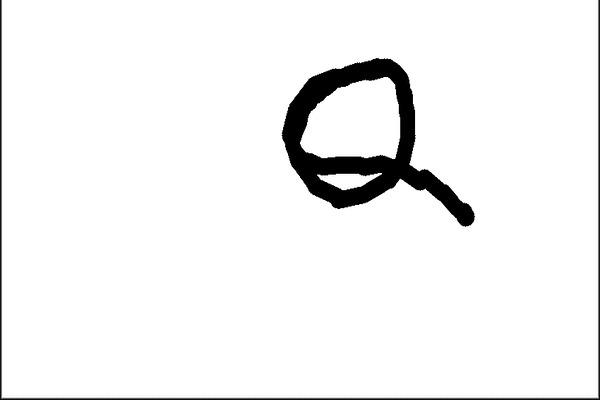Q: (275, 45, 482, 239)
